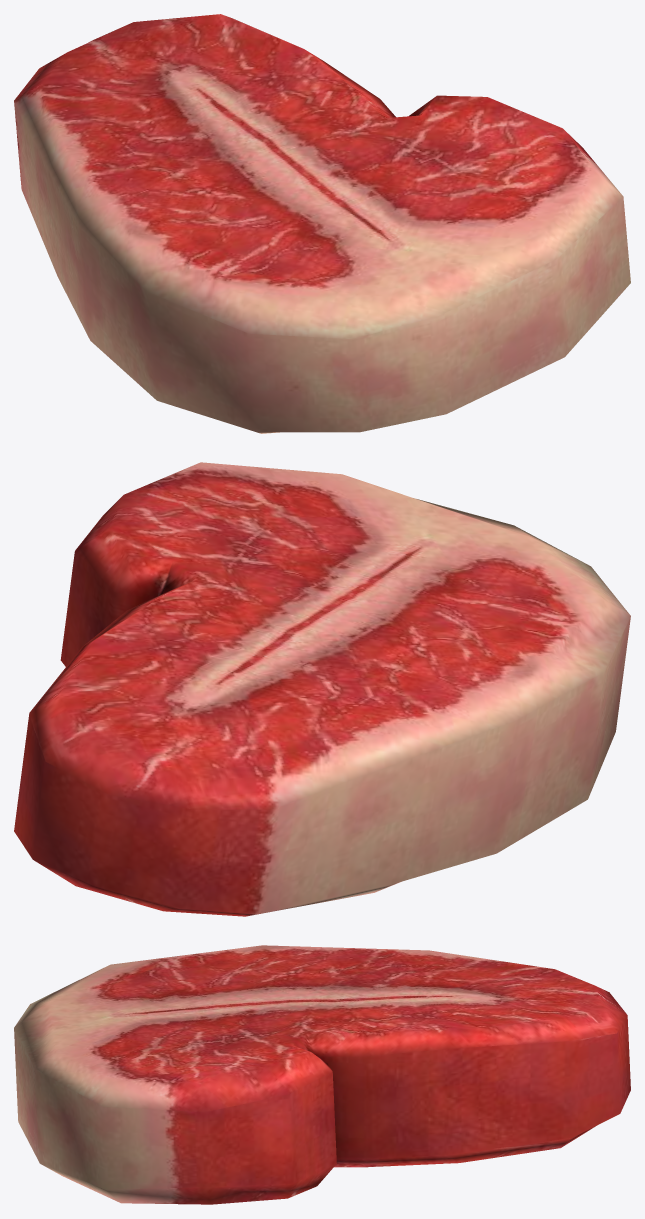
File: donkey-resourcemeat-slice-female-base.glb
3 renders of one model, top to bottom at view 1: azimuth 30°, elevation 25°; view 2: azimuth 150°, elevation 25°; view 3: azimuth 270°, elevation 25°, orthographic. The views are drawn at different scales.
Bounding box in the file's own units: 0.4317 × 0.1756 × 0.5905.
1 material, 1 textured.
